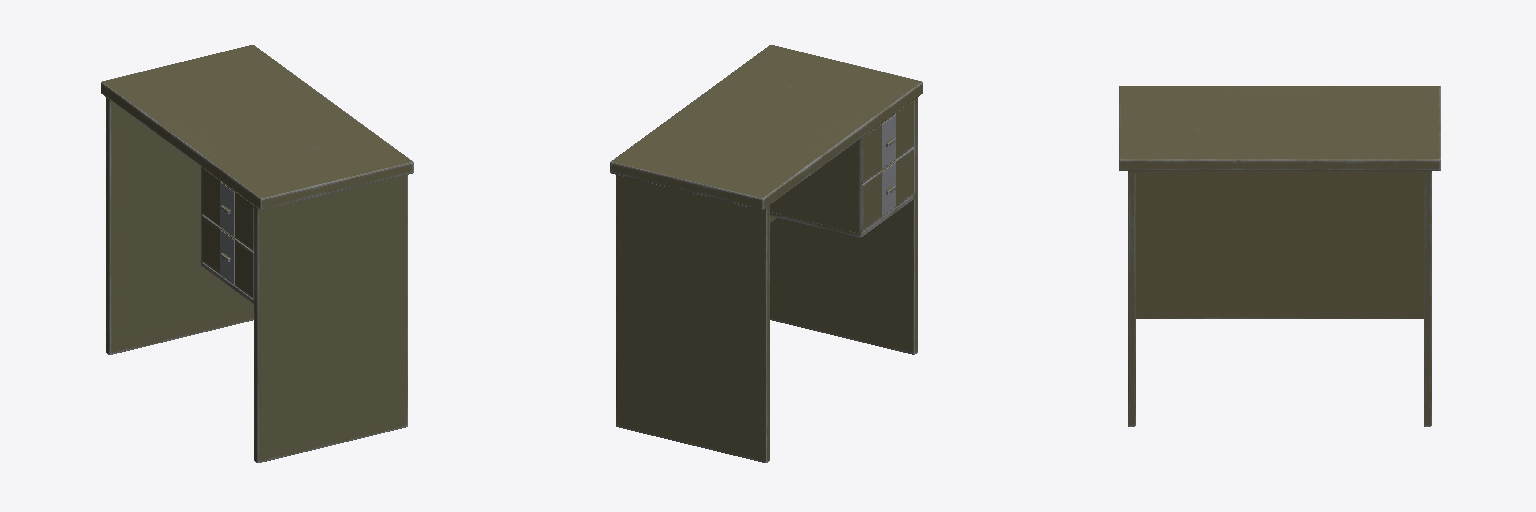
3 renders of one model, left to right at view 1: azimuth 30°, elevation 25°; view 2: azimuth 150°, elevation 25°; view 3: azimuth 270°, elevation 25°, orthographic.
Visible parts, largest first — view 1: object_1; view 2: object_1; view 3: object_1.
Part boxes in pixels (x1,y1,x2,y2): object_1: (101,45,413,462); object_1: (610,45,922,462); object_1: (1119,86,1440,426).
Size of the model in its own units: 0.14 by 0.23 by 0.25.
1 materials, 1 textured.